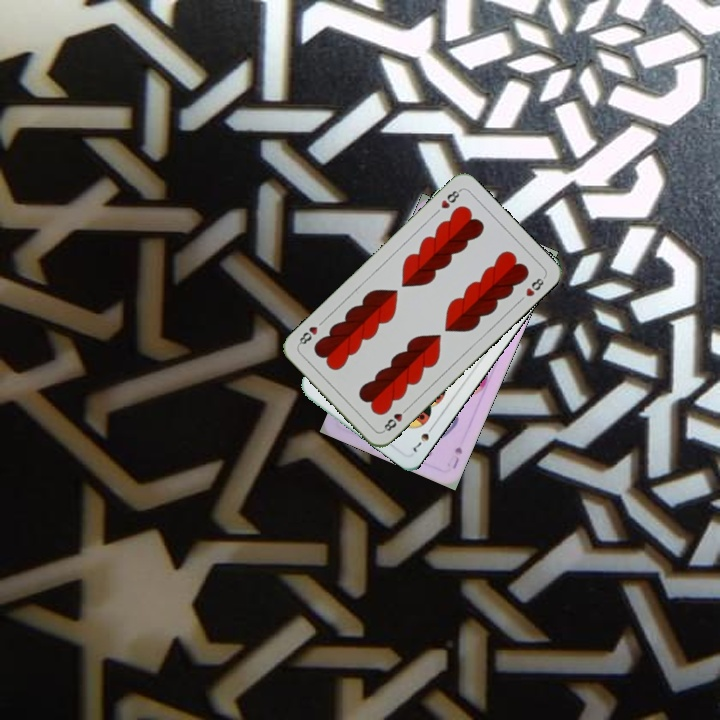H8: (379, 403, 411, 435), (437, 185, 463, 211)
S7: (408, 421, 437, 454)
SU: (444, 442, 465, 472)
